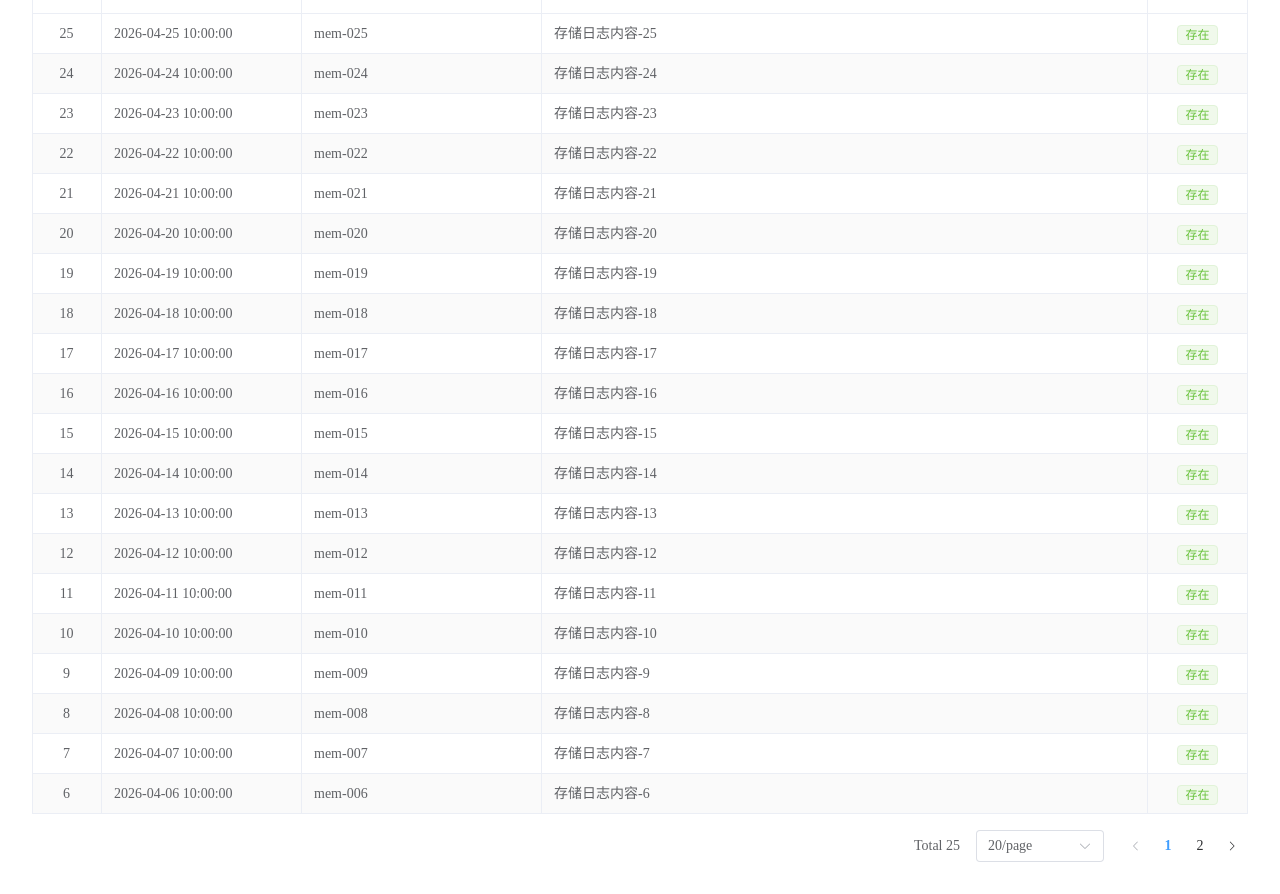
LogsView 视图 › 存储日志支持翻页
(page scrolled)
Step 1. Click the list item "2" → (1200, 846), box left=1184, top=830, right=1216, bottom=862
(page scrolled)
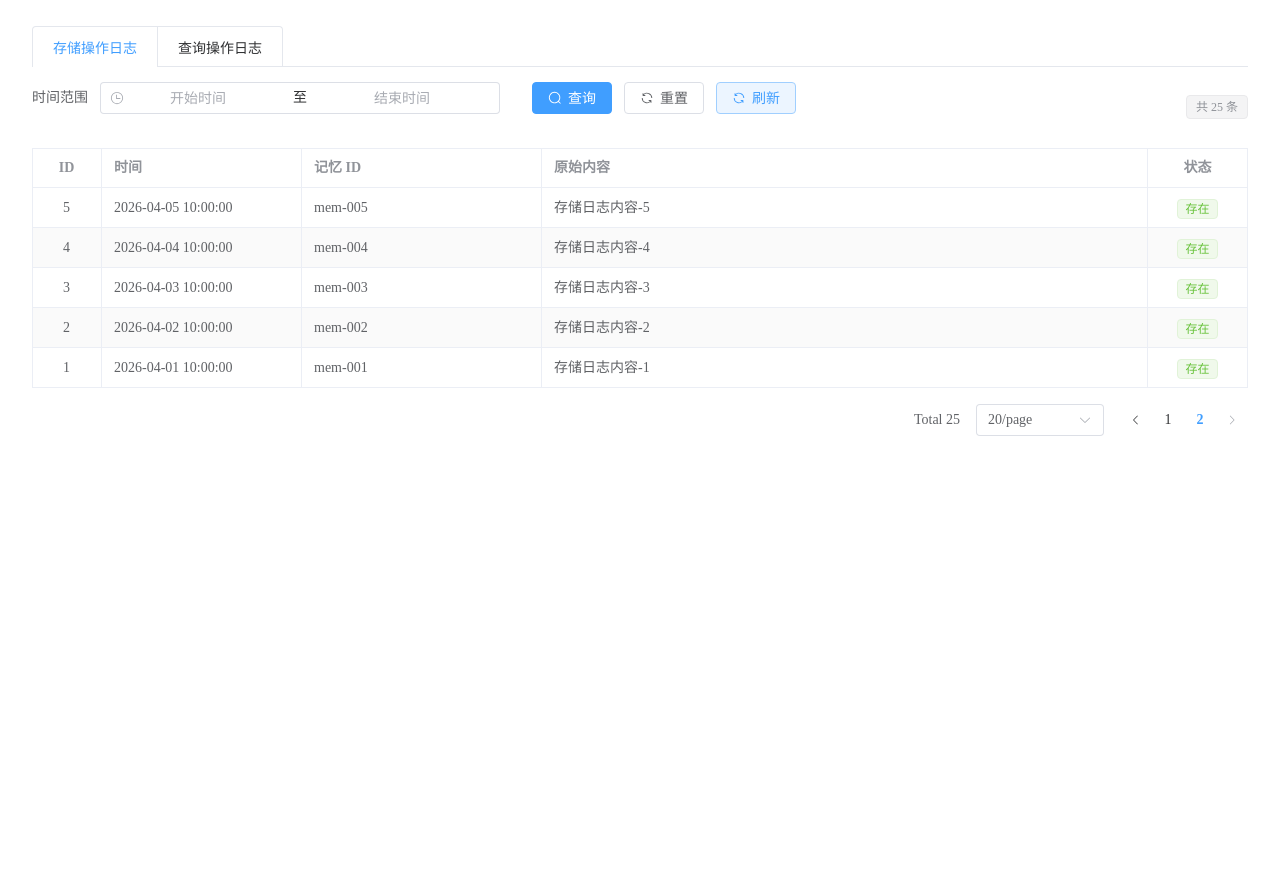
Now the text "mem-005" is shown, box left=314, top=200, right=368, bottom=215
